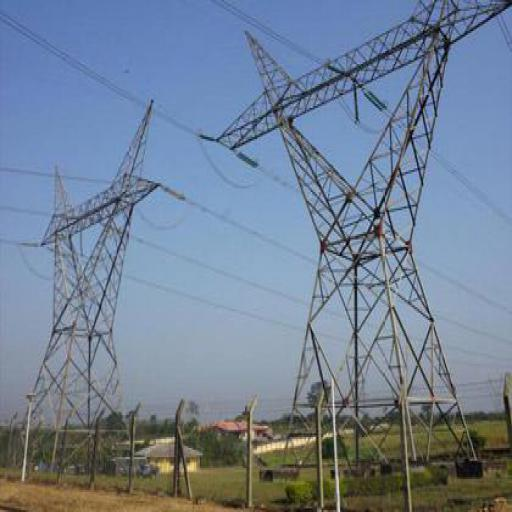wt_6: (213, 0, 511, 474), (16, 99, 162, 470)
